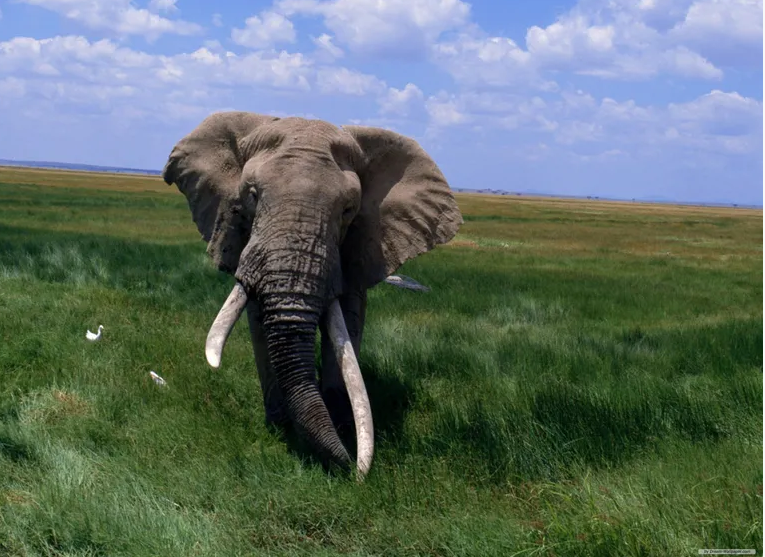elephantidae: (152, 97, 469, 493)
